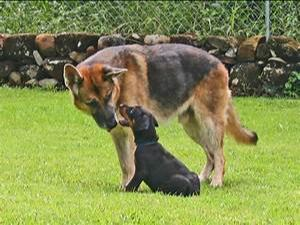dog: (62, 42, 258, 191), (119, 103, 200, 196)
